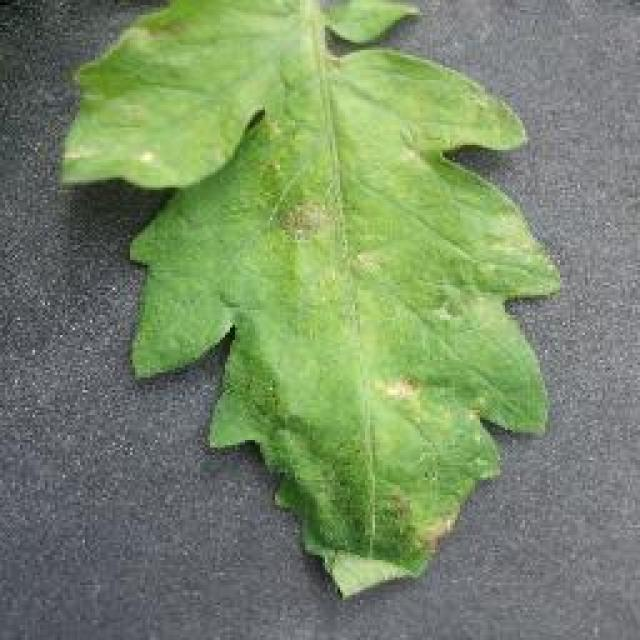Tomato Late Blight: (223, 73, 530, 632)
